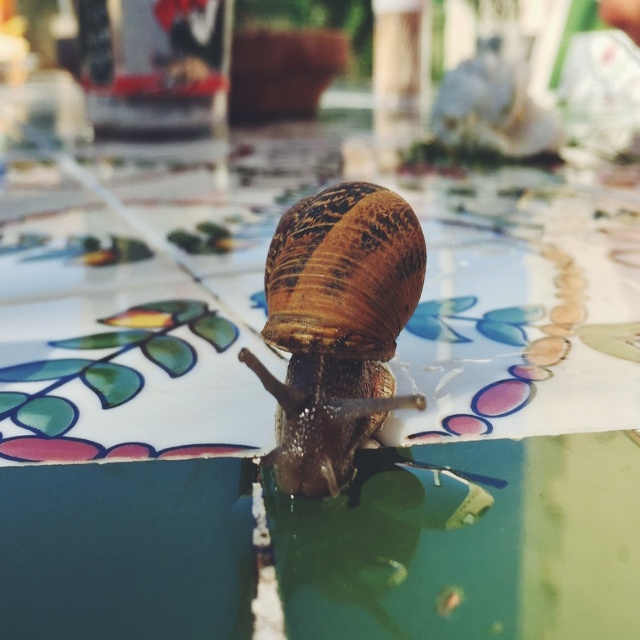Snail: (239, 157, 440, 500)
